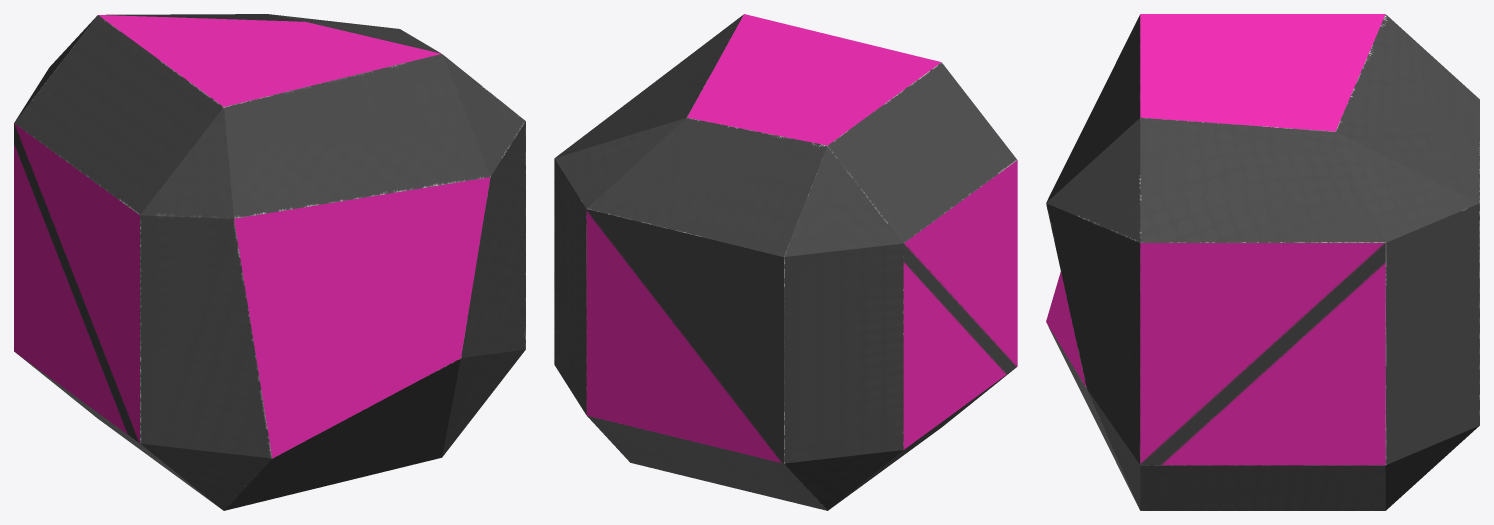
3 views of the same model, side by side, from view 1: azimuth 30°, elevation 25°; view 2: azimuth 150°, elevation 25°; view 3: azimuth 270°, elevation 25° (orthographic). The views are drawn at different scales.
Visible parts, largest first — view 1: Box4-lp; view 2: Box4-lp; view 3: Box4-lp.
Boxes of the visible parts, <box> form: Box4-lp: <box>14,14,525,510</box>; Box4-lp: <box>554,14,1017,510</box>; Box4-lp: <box>1046,14,1479,510</box>.
Bounding box in the file's own units: 200 × 200 × 200.
Materials: 2 (2 with a texture image).
